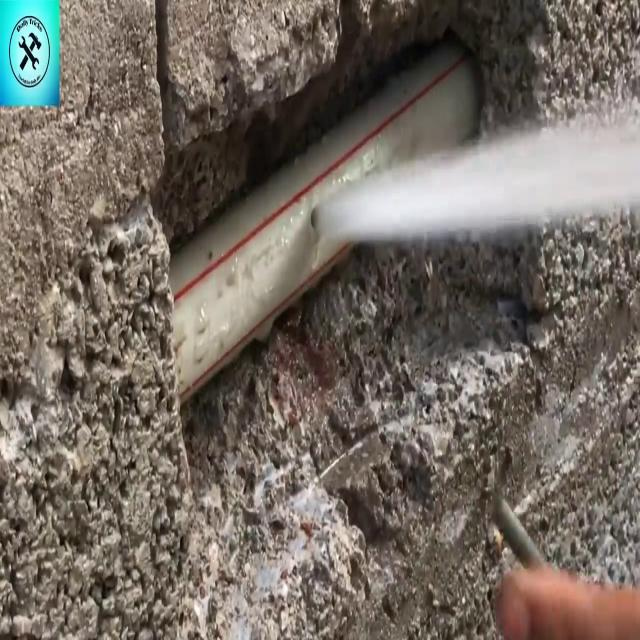leak: (313, 102, 640, 244)
